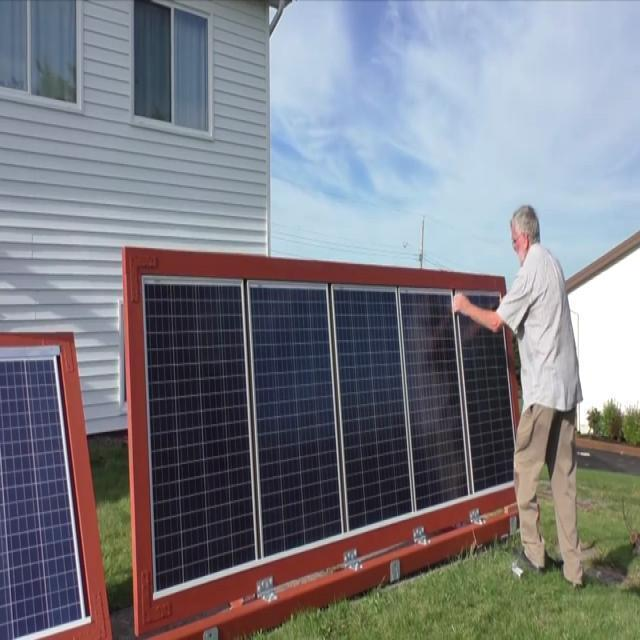Normal Solar Panel: (143, 276, 517, 596), (0, 349, 87, 638)
